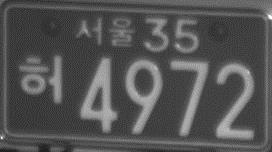2: (214, 61, 255, 142)
3: (142, 16, 170, 53)
4: (78, 55, 120, 134)
5: (174, 17, 200, 54)
7: (167, 59, 211, 137)
9: (123, 59, 164, 137)
서울_O: (74, 15, 136, 49)
허: (18, 52, 66, 106)
